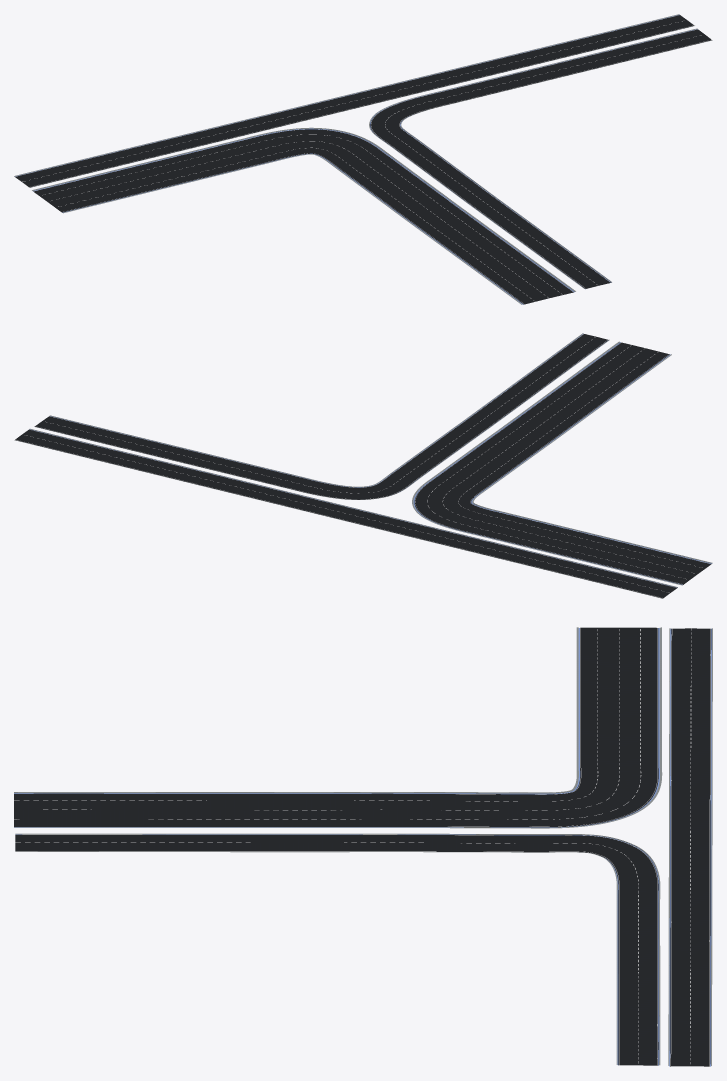
The model's file is roadtest5.fbx.
3 views of the same model, one above another, from view 1: azimuth 30°, elevation 25°; view 2: azimuth 150°, elevation 25°; view 3: azimuth 270°, elevation 25° (orthographic). The views are drawn at different scales.
Parts seen in each view (by area): view 1: Road Profile, Road Profile.001, Road Profile.002; view 2: Road Profile, Road Profile.001, Road Profile.002; view 3: Road Profile, Road Profile.001, Road Profile.002.
Boxes of the visible parts, <box> form: Road Profile: <box>32,127,575,304</box>; Road Profile.001: <box>369,28,712,289</box>; Road Profile.002: <box>14,14,694,187</box>; Road Profile: <box>412,341,712,585</box>; Road Profile.001: <box>34,333,609,499</box>; Road Profile.002: <box>14,428,677,598</box>; Road Profile: <box>14,627,662,828</box>; Road Profile.001: <box>15,833,660,1065</box>; Road Profile.002: <box>668,628,712,1066</box>.
Bounding box in the file's own units: 21640 × 16.38 × 14571.
